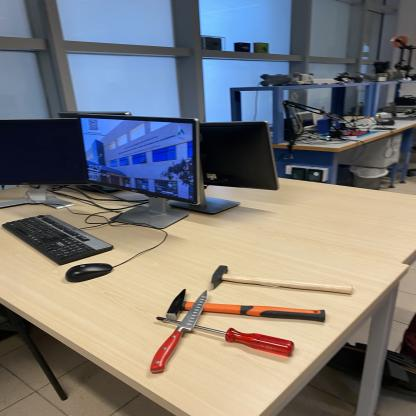Hammer: (166, 288, 327, 324), (209, 263, 356, 296)
Knife: (150, 290, 209, 375)
